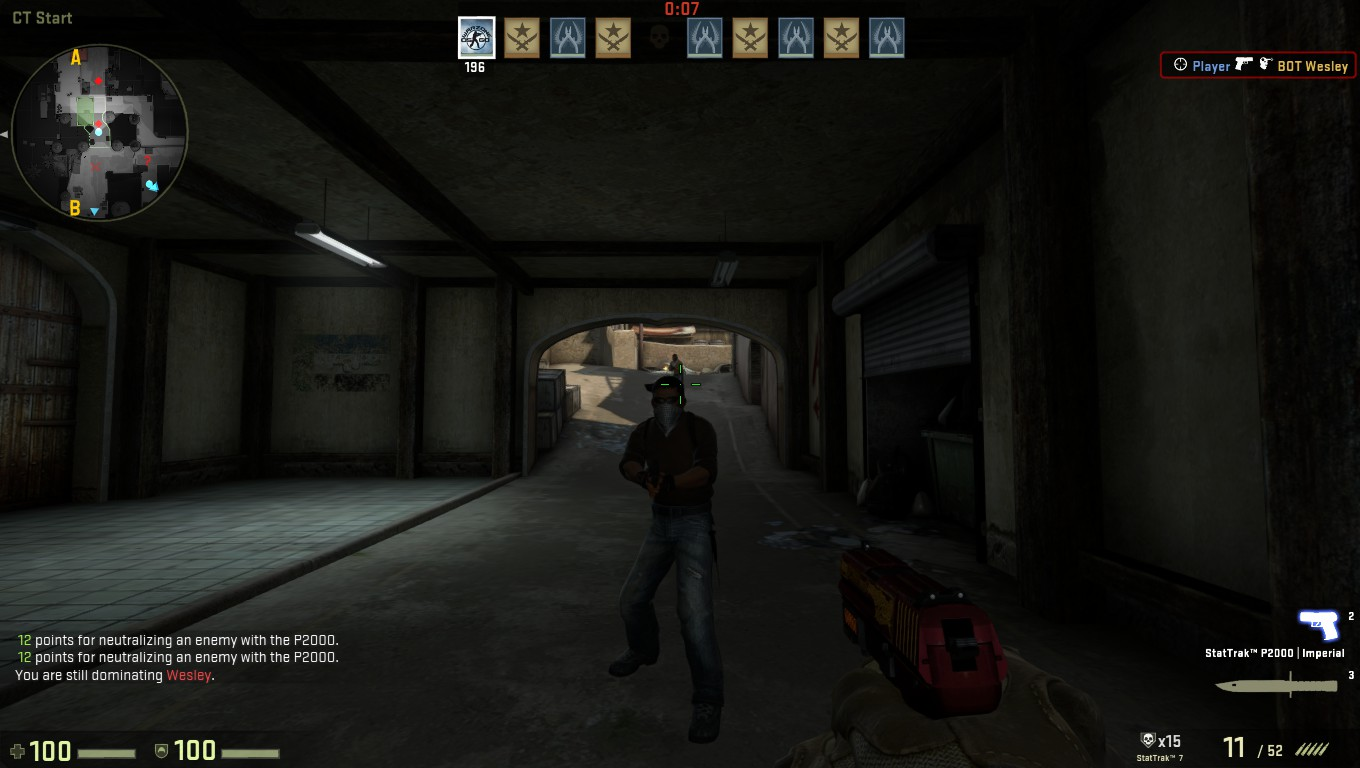t: (622, 364, 737, 732)
th: (638, 370, 701, 428)
